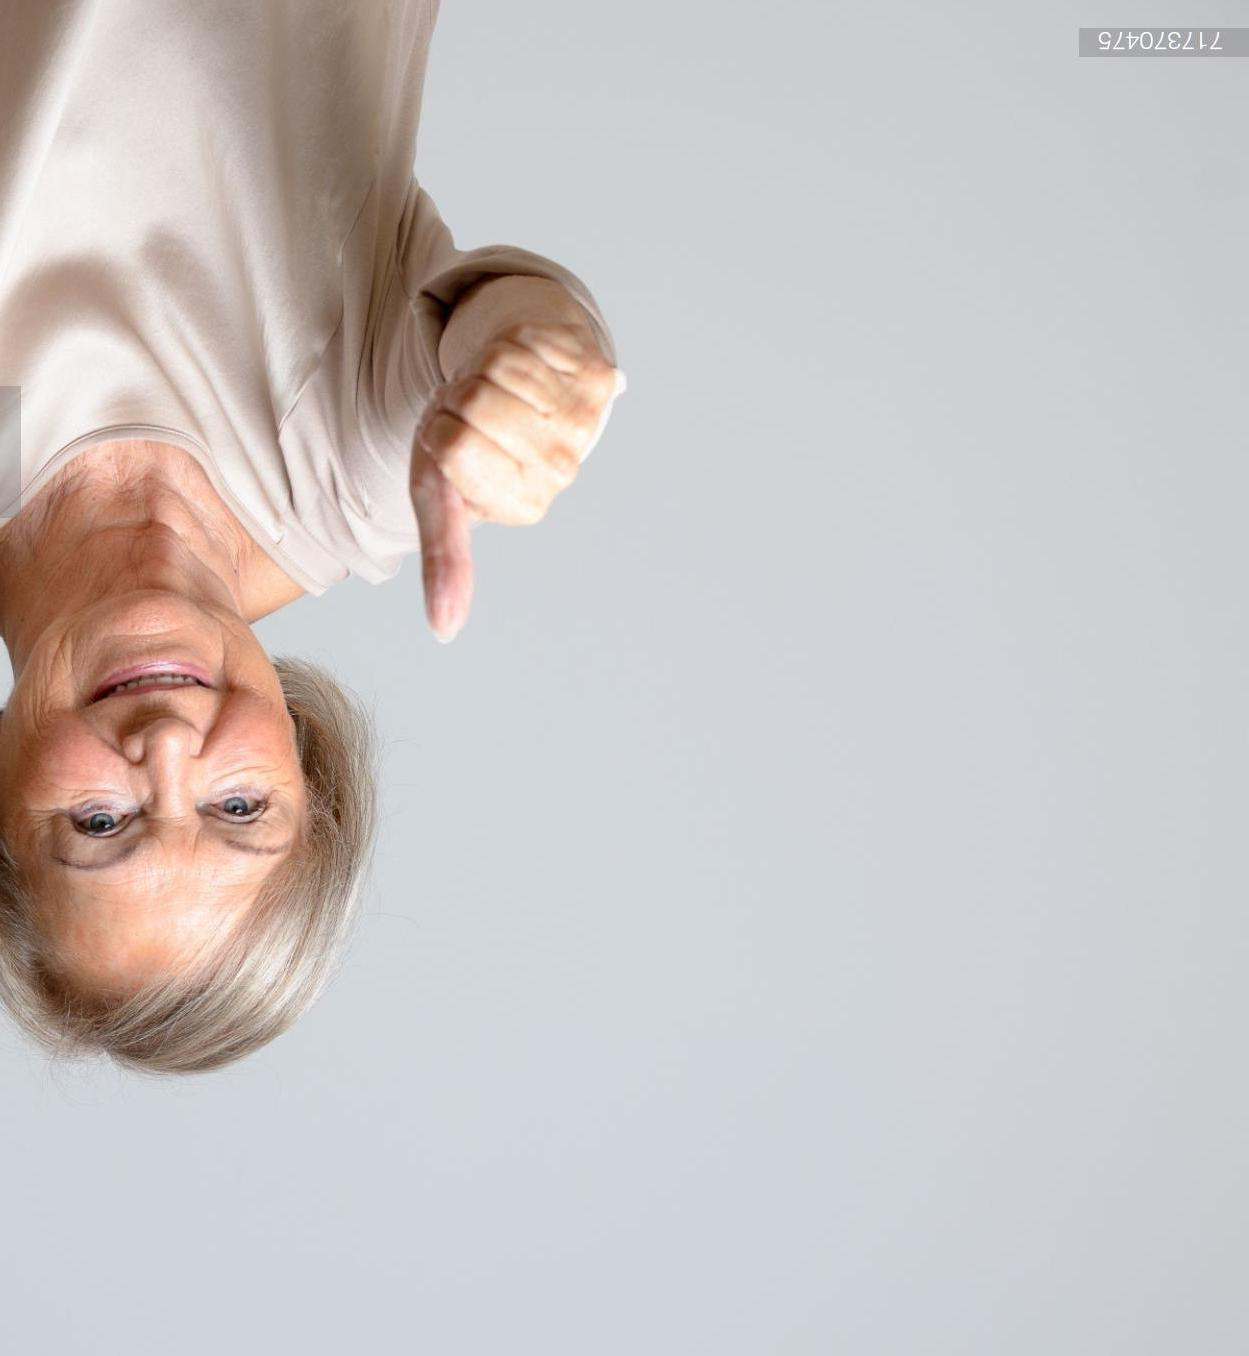thumbsdown: (409, 321, 616, 646)
